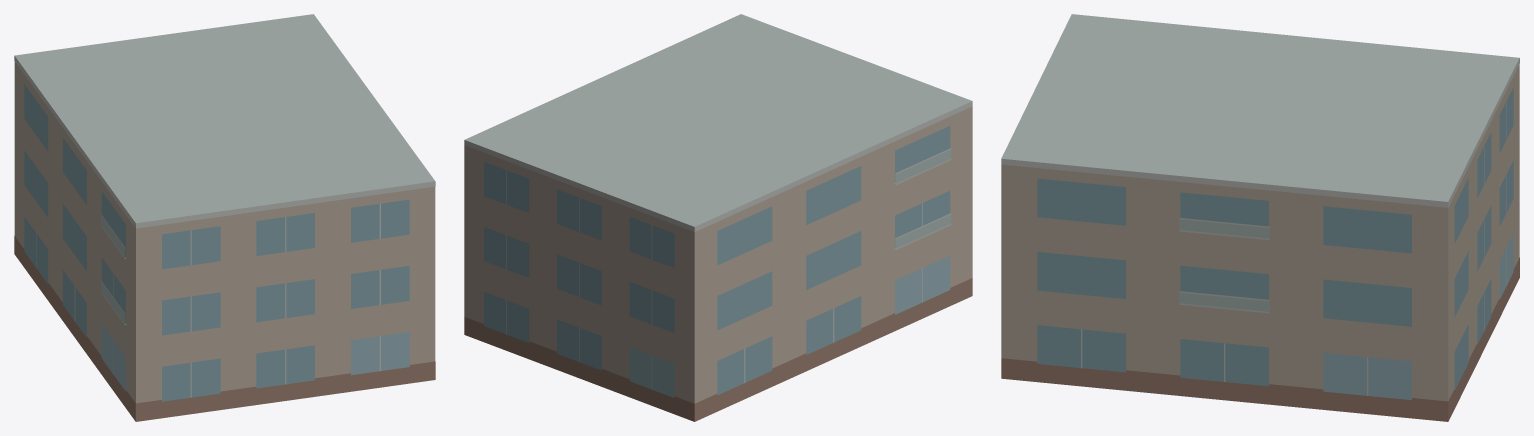
Rendered from survey-upis-32541219.glb.
3 renders of one model, left to right at view 1: azimuth 30°, elevation 25°; view 2: azimuth 150°, elevation 25°; view 3: azimuth 270°, elevation 25°, orthographic. The views are drawn at different scales.
Visible parts, largest first — view 1: survey-upis-32541219.tmp; view 2: survey-upis-32541219.tmp; view 3: survey-upis-32541219.tmp.
Boxes of the visible parts, x1=… form: survey-upis-32541219.tmp: x1=14, y1=14, x2=435, y2=421; survey-upis-32541219.tmp: x1=464, y1=14, x2=972, y2=421; survey-upis-32541219.tmp: x1=1001, y1=14, x2=1519, y2=421.
Size of the model in its own units: 16.78 by 9.15 by 19.57.
